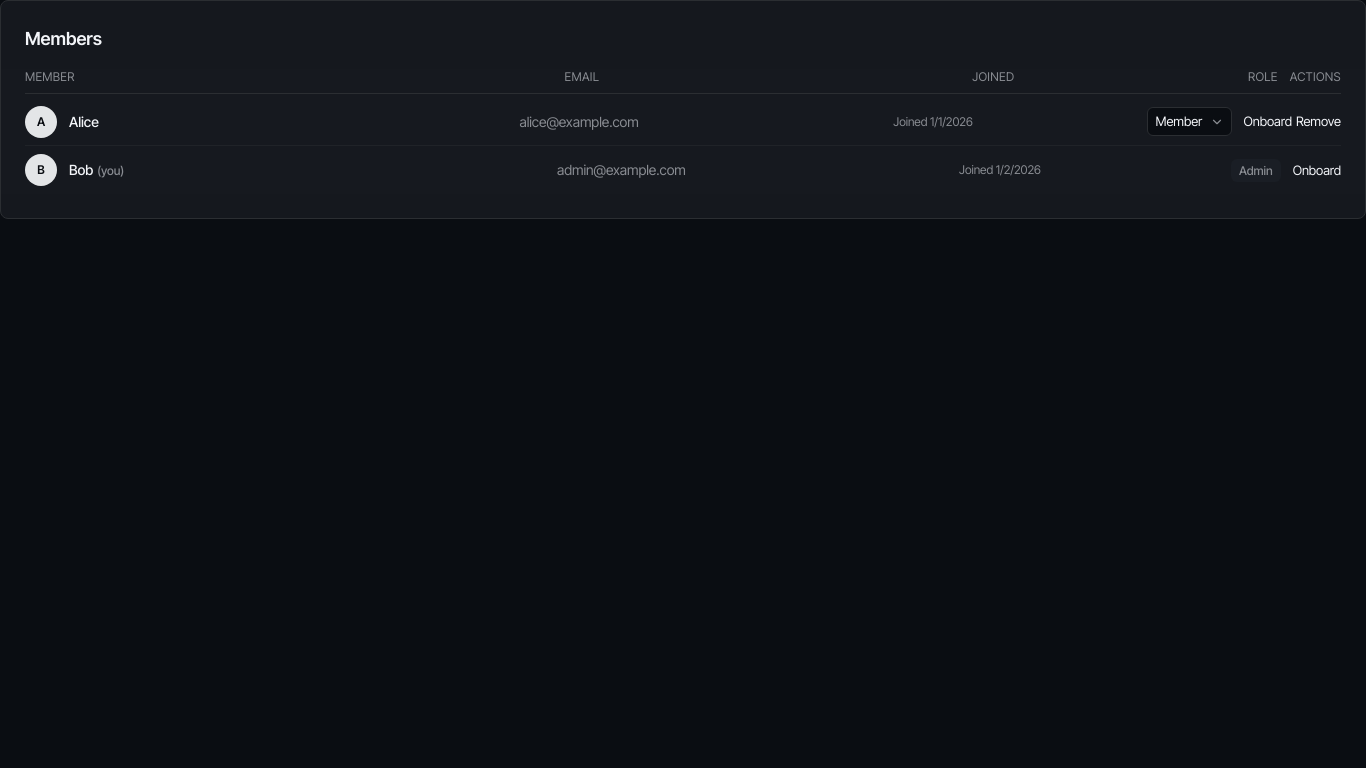
Test: MembersSection — Generate onboarding link button › opens OnboardingLinkModal with returned URL on mutation success
Step 1. Click the button "Onboard" in the row of "alice@example.com" → [1268, 122], box x1=1244 y1=112 x2=1292 y2=131
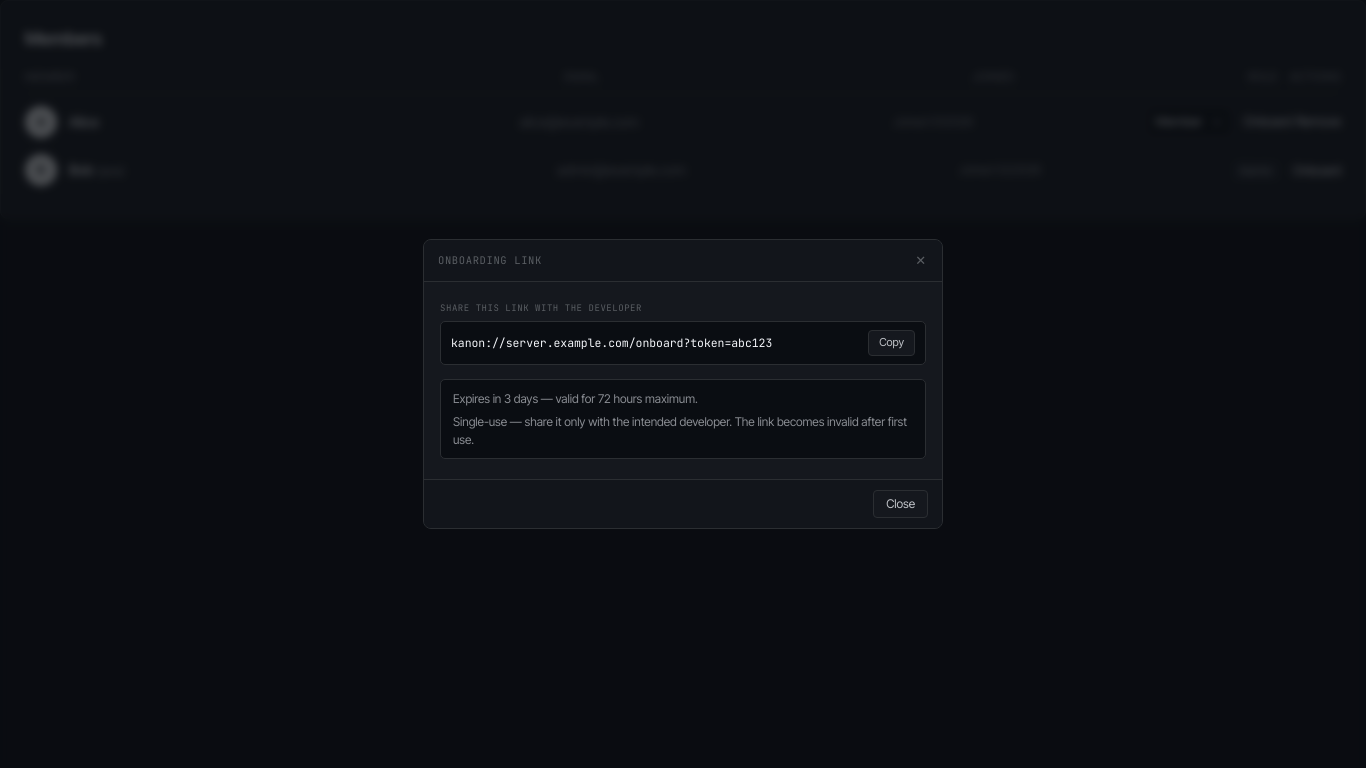
Now the dialog with test id "onboarding-link-modal" is shown, box x1=423 y1=239 x2=943 y2=529
Now the text with test id "onboarding-url" reads "kanon://server.example.com/onboard?token=abc123", box x1=451 y1=335 x2=772 y2=350
